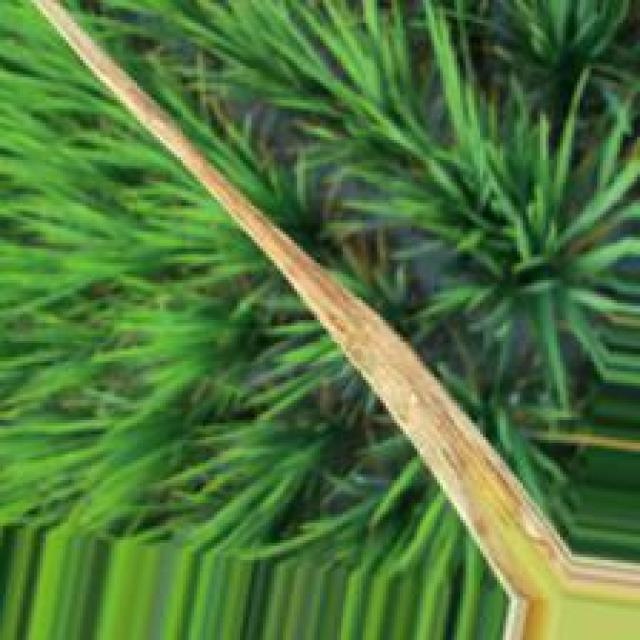Bacterial_Leaf_Blight: (40, 0, 640, 639)
